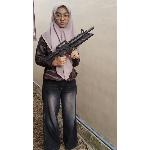Senapan: (43, 22, 101, 70)
